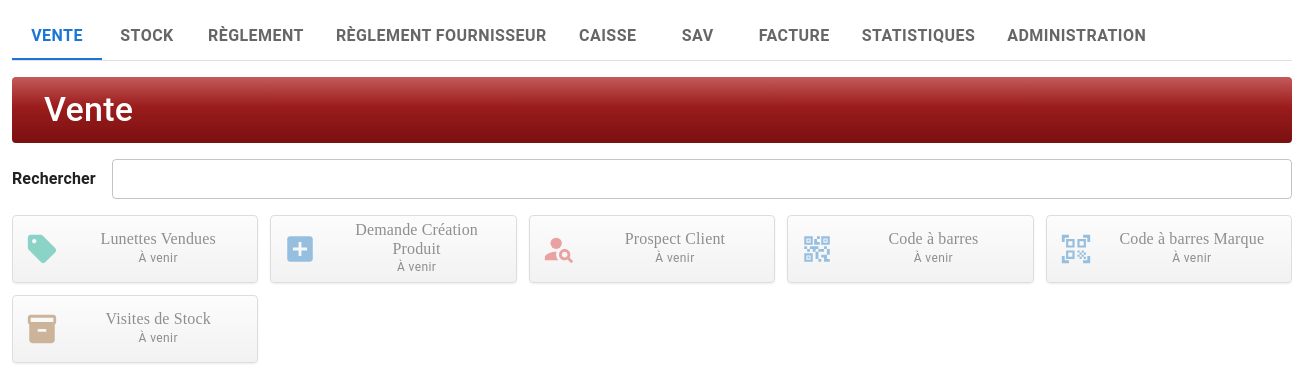
changer d'onglet affiche les boutons du module
This screenshot has width=1304, height=381.
Step 1. Click the tab "Caisse" → (608, 36), box [563, 12, 653, 60]
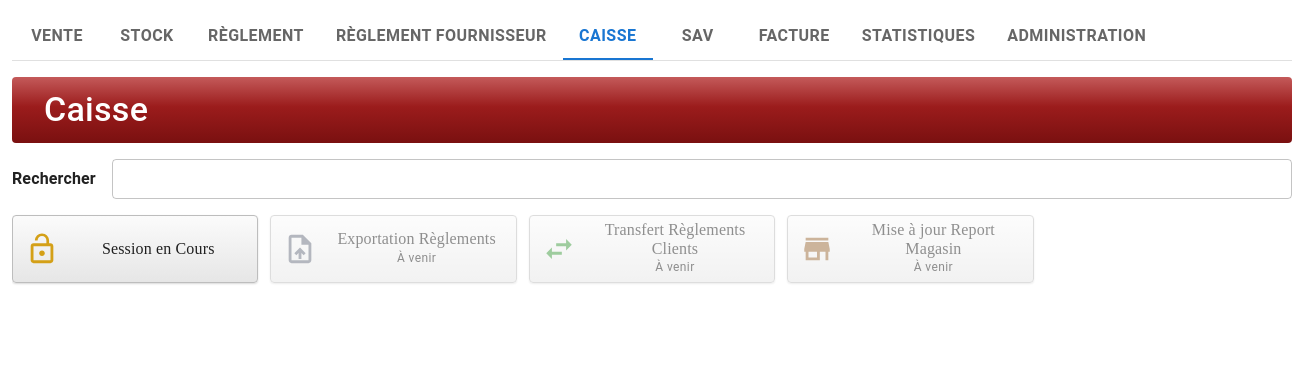
Now the button "Session en Cours" is shown, box [12, 215, 258, 283]
